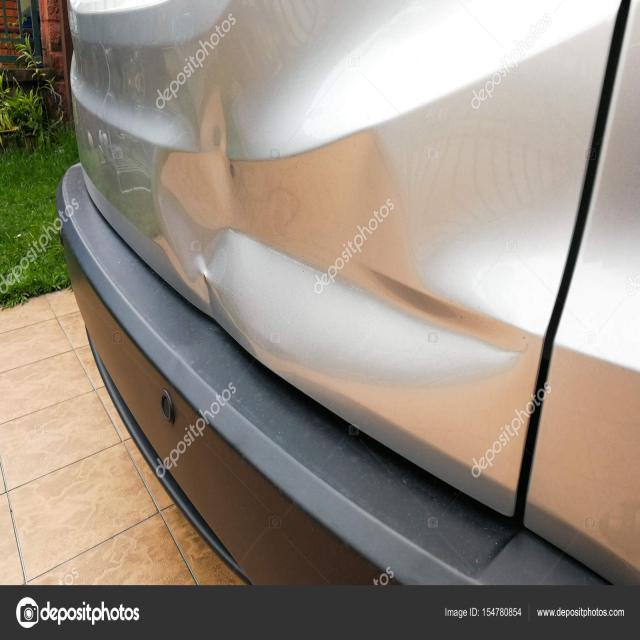dent: (156, 91, 525, 385)
